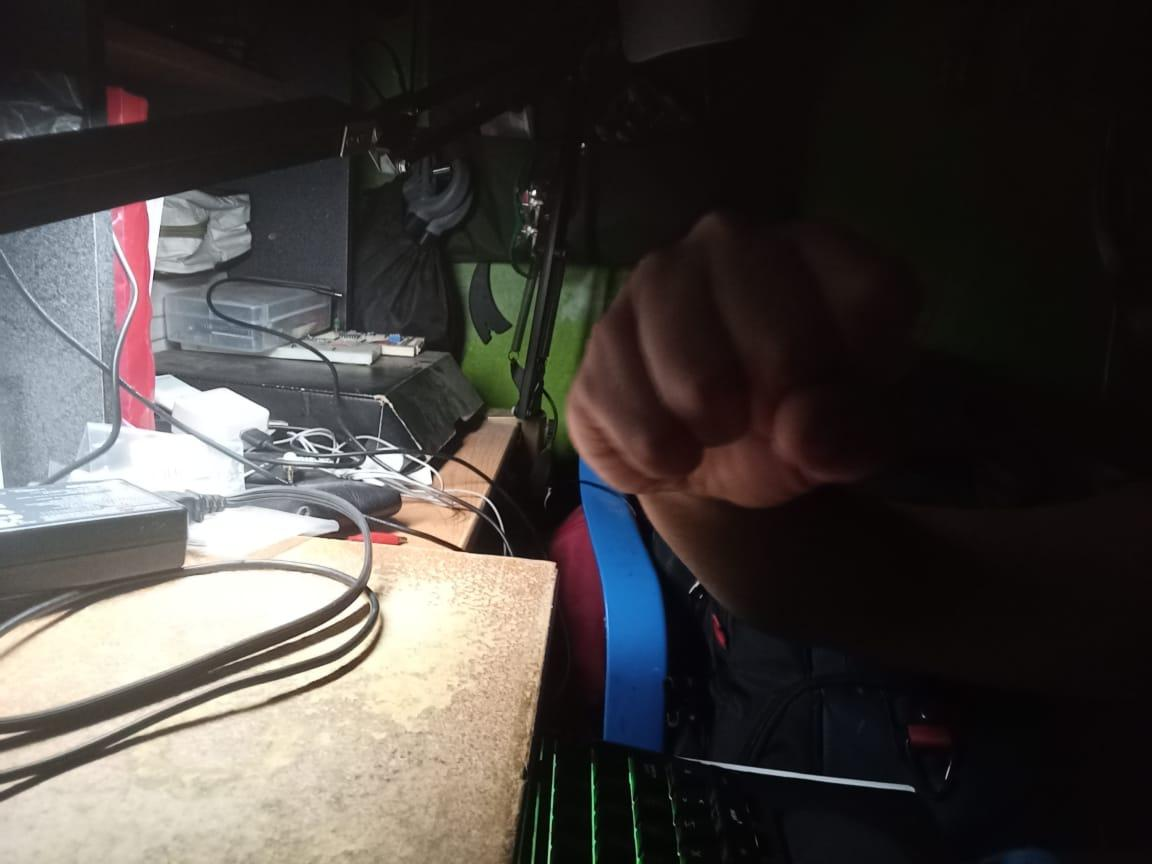Stone: (566, 198, 938, 530)
